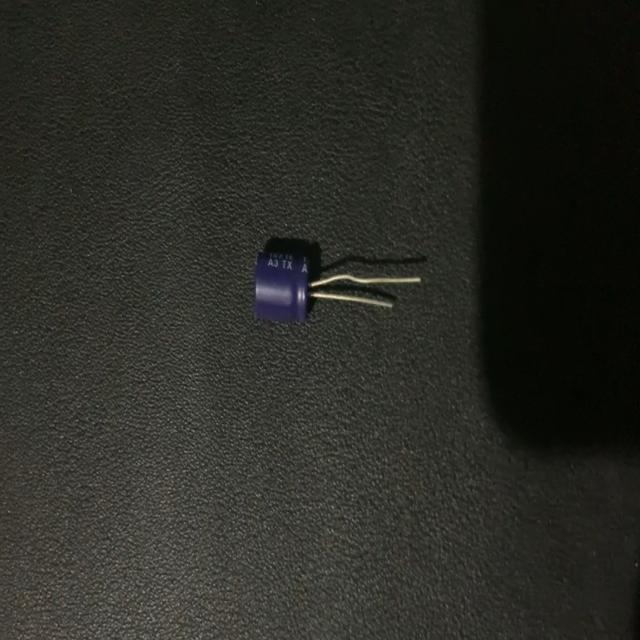capacitor: (252, 240, 422, 323)
